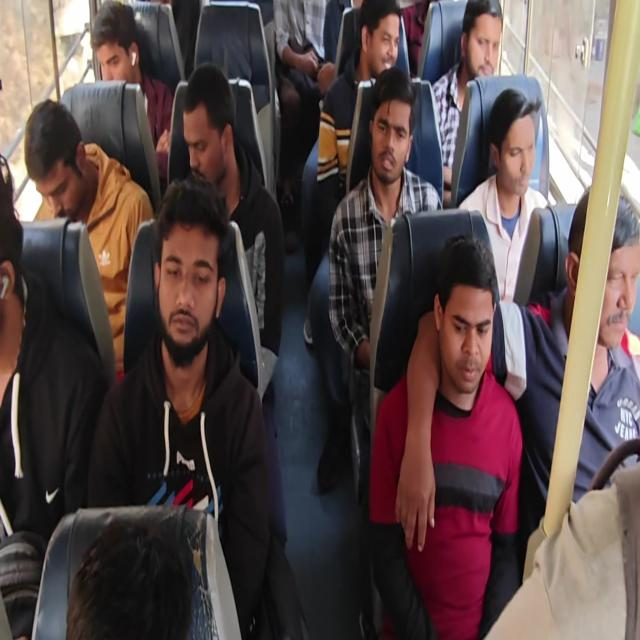person: (2, 1, 638, 638), (405, 185, 639, 568), (86, 174, 273, 638), (369, 232, 523, 638), (0, 152, 107, 638), (328, 67, 443, 421), (23, 98, 155, 381), (181, 62, 285, 400), (457, 87, 551, 307), (315, 0, 401, 229), (65, 516, 195, 639), (89, 0, 173, 186), (430, 0, 503, 203), (273, 0, 341, 209)
